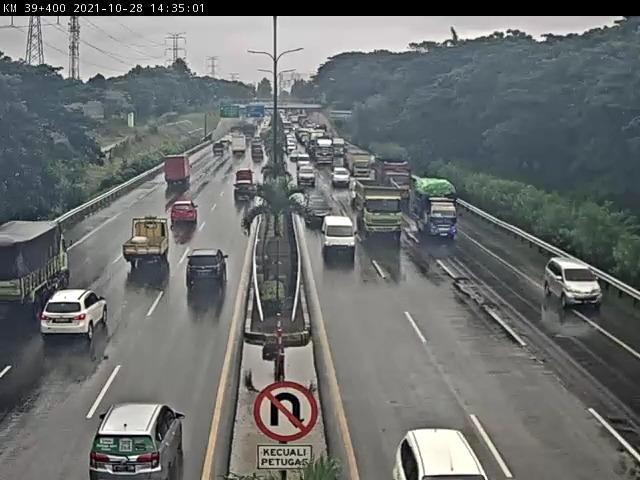car: (82, 399, 192, 480), (377, 414, 491, 480), (39, 284, 117, 372), (543, 250, 612, 313), (178, 243, 236, 304), (322, 215, 360, 267), (163, 198, 205, 236), (293, 159, 322, 187), (304, 193, 330, 218), (330, 163, 353, 188), (232, 169, 260, 186), (233, 194, 258, 213)
truck: (1, 216, 81, 309), (404, 175, 458, 240), (121, 212, 177, 272), (356, 183, 406, 241), (155, 153, 192, 194), (374, 148, 417, 183)
